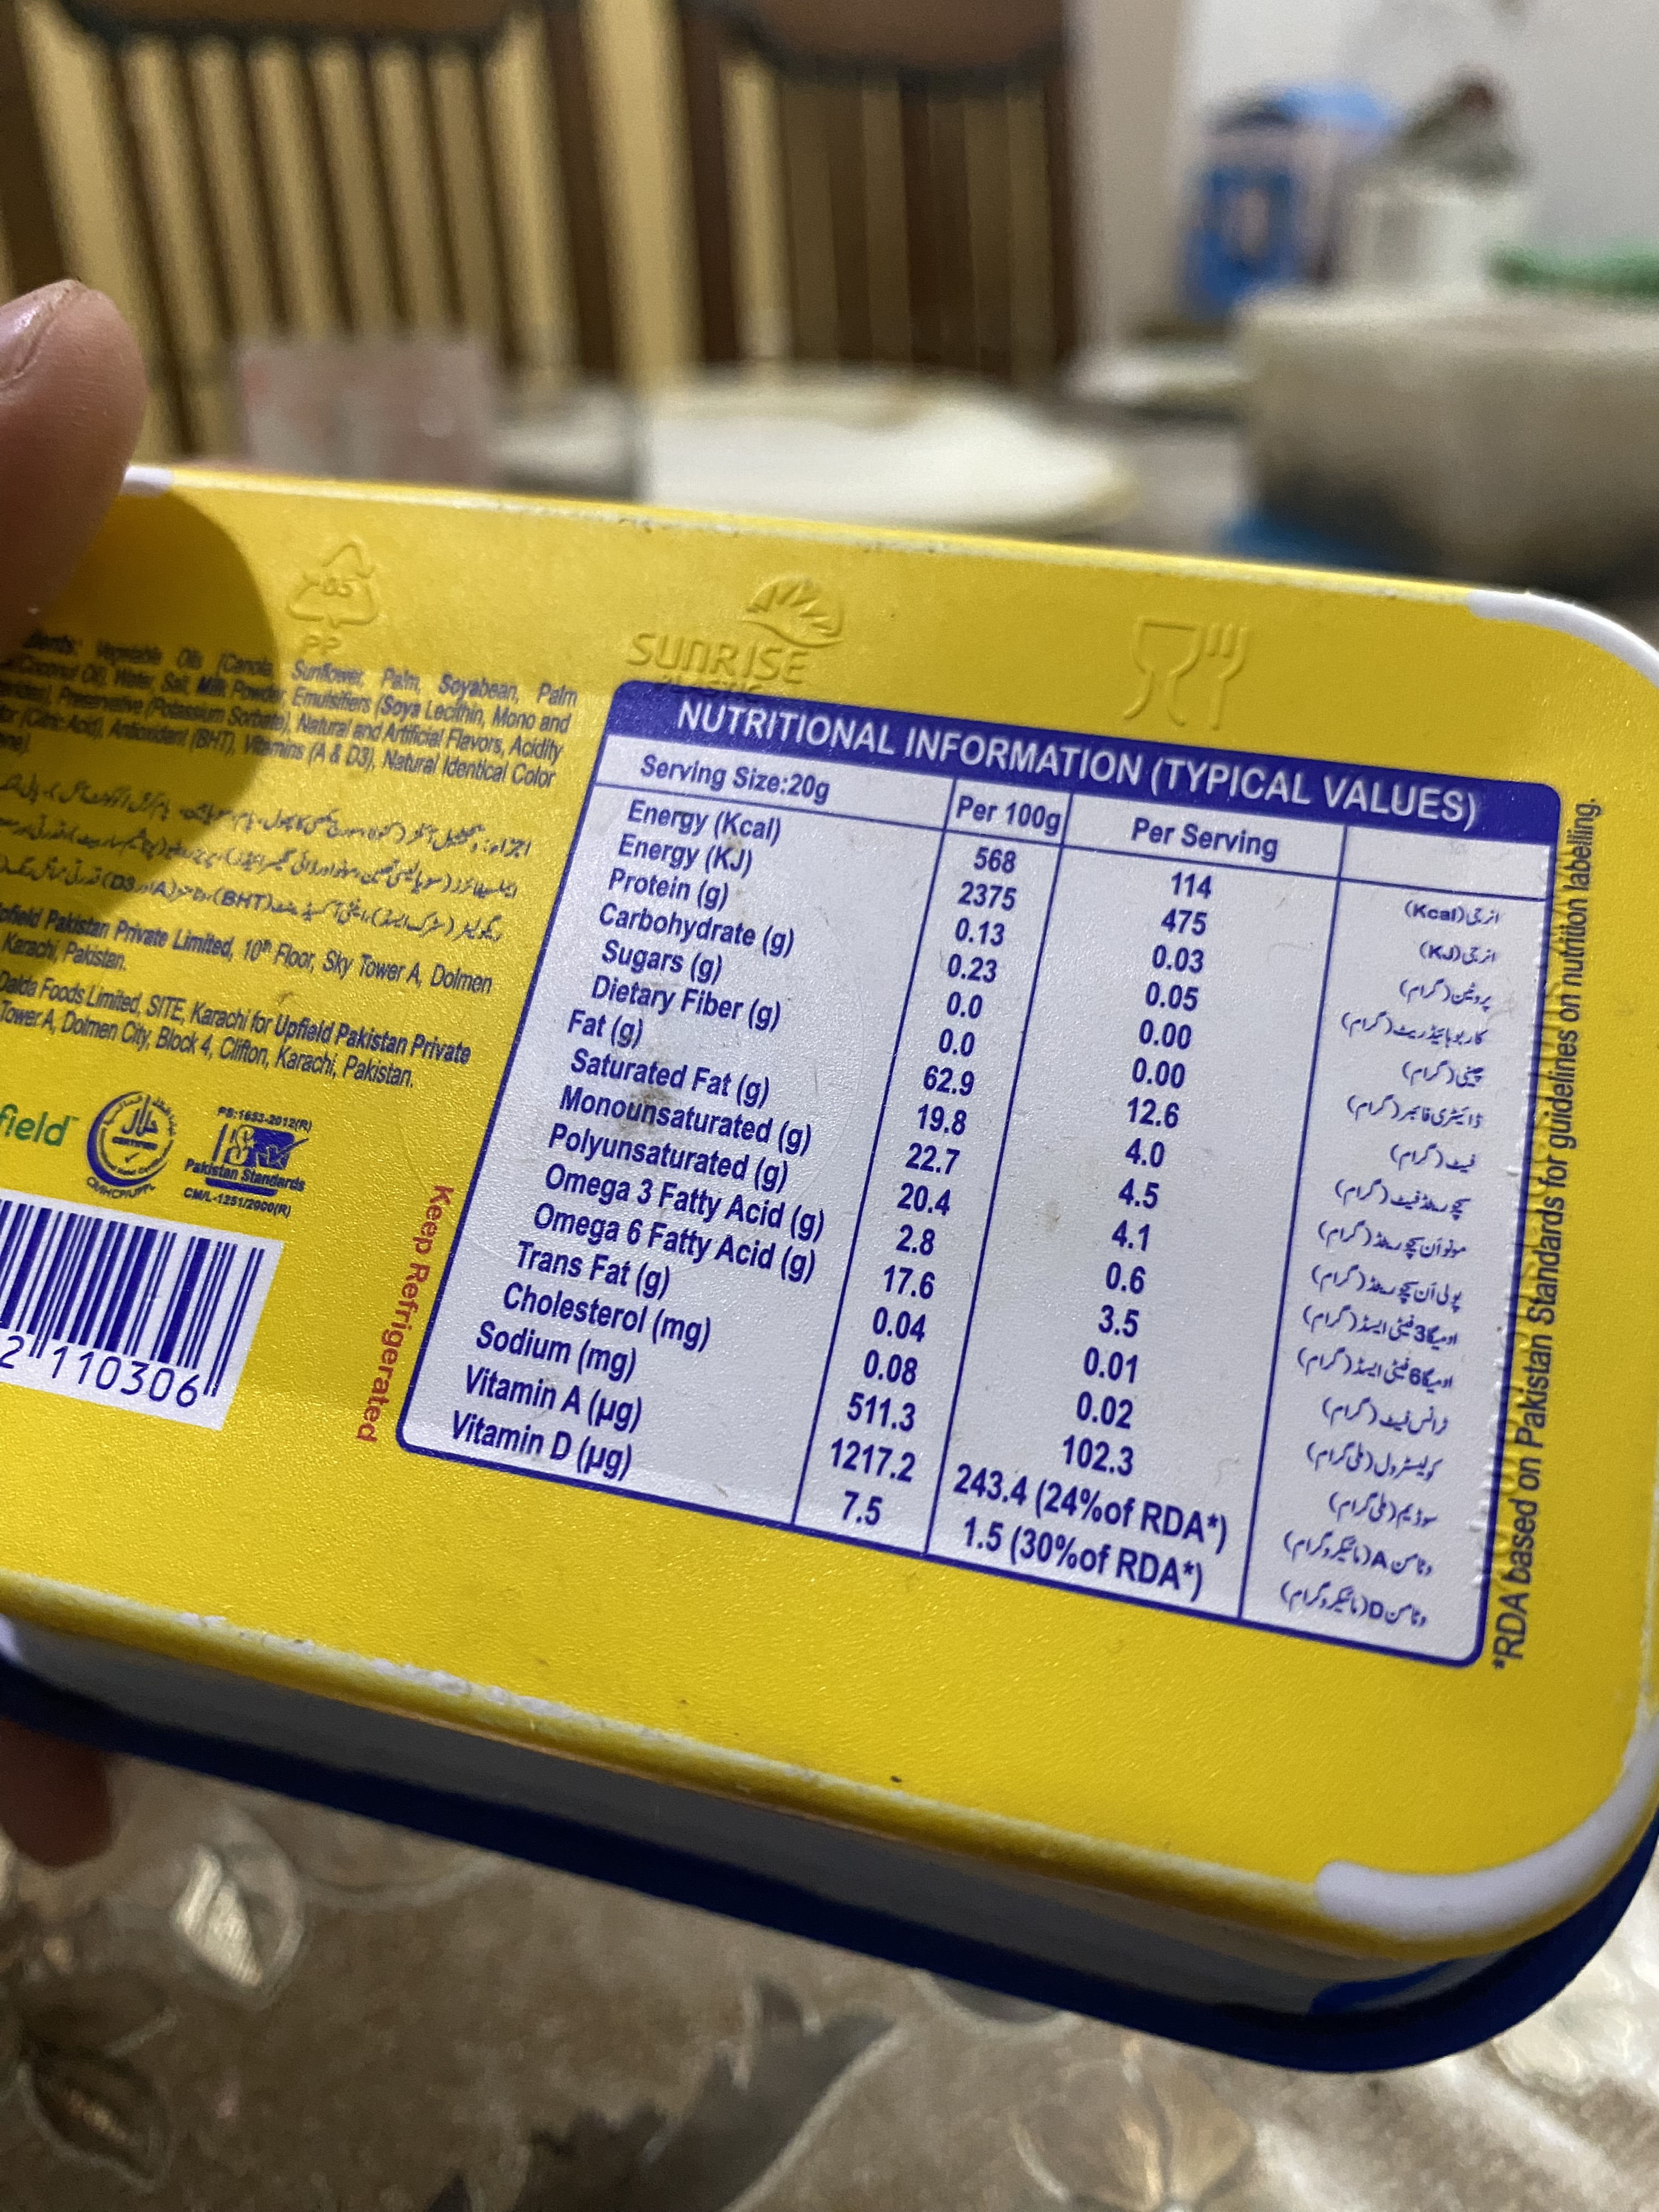table: (380, 674, 1558, 1672)
